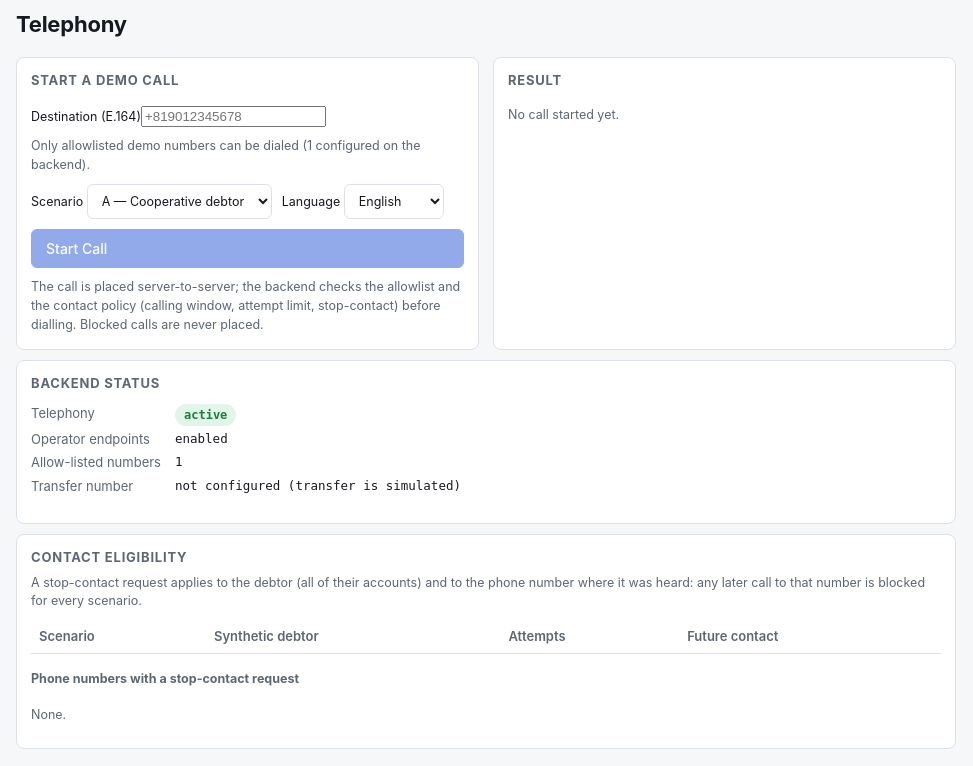
Test: Start Call › renders a structured policy block with rule and reason
Type "+81 90-1234-5678" into the field with placeholder "+819012345678" at coordinates (234, 116), box [141, 106, 326, 127]
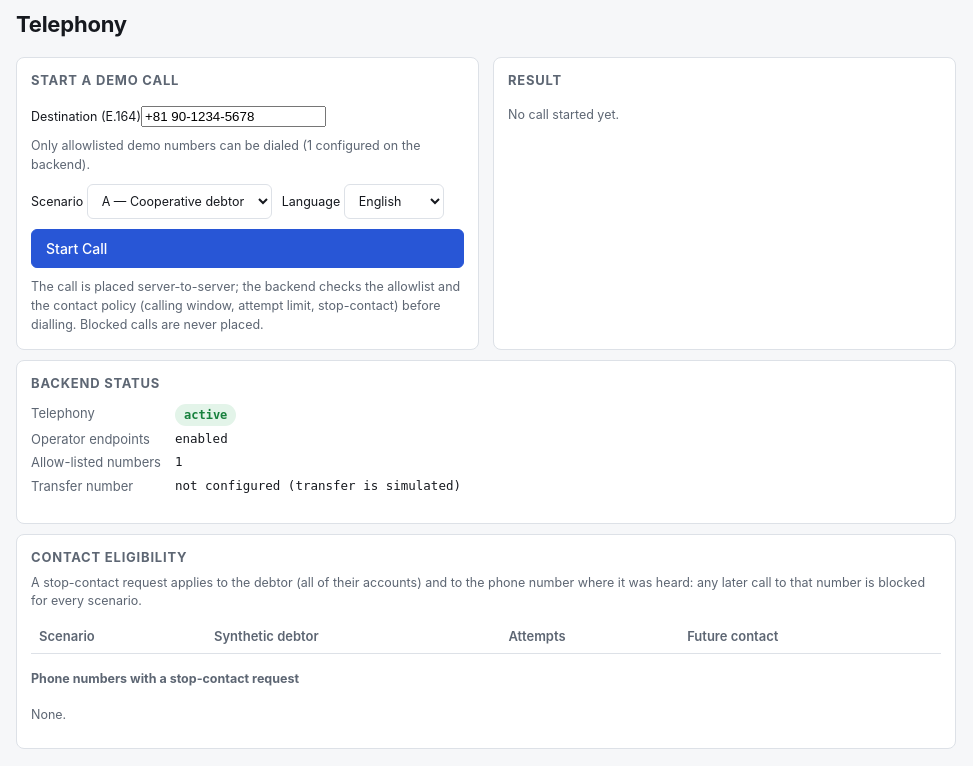
Submit the form named "Start call", box [16, 56, 479, 350]
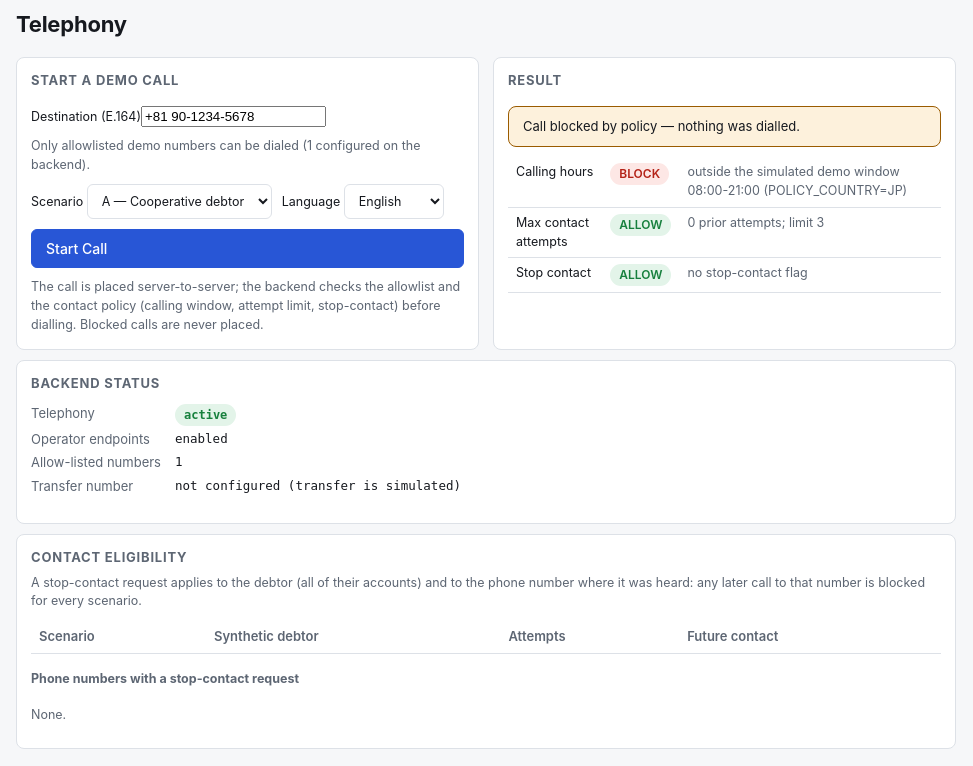
Expected: the element with test id "call-blocked" is shown, [508, 106, 941, 293]
Expected: the text "Call blocked by policy — nothing was dialled." is shown, [508, 106, 941, 147]
Expected: the text "Calling hours" is shown, [508, 157, 602, 207]
